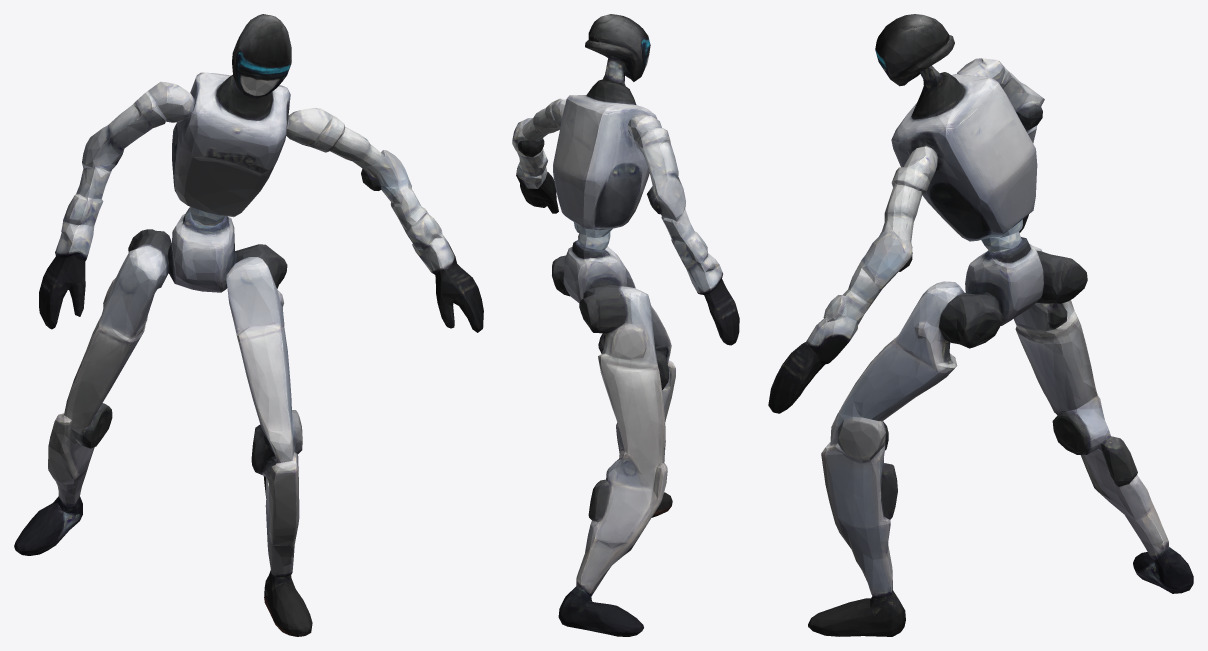
The picture shows the model from 3 angles, left to right: view 1: azimuth 30°, elevation 25°; view 2: azimuth 150°, elevation 25°; view 3: azimuth 270°, elevation 25°; orthographic projection. The views are drawn at different scales.
Parts seen in each view (by area): view 1: world; view 2: world; view 3: world.
Part boxes in pixels (x1,y1,x2,y2): world: [14, 14, 483, 636]; world: [512, 14, 739, 636]; world: [768, 14, 1193, 636].
Bounding box in the file's own units: 0.6085 × 0.9991 × 0.619.
1 material, 1 textured.
